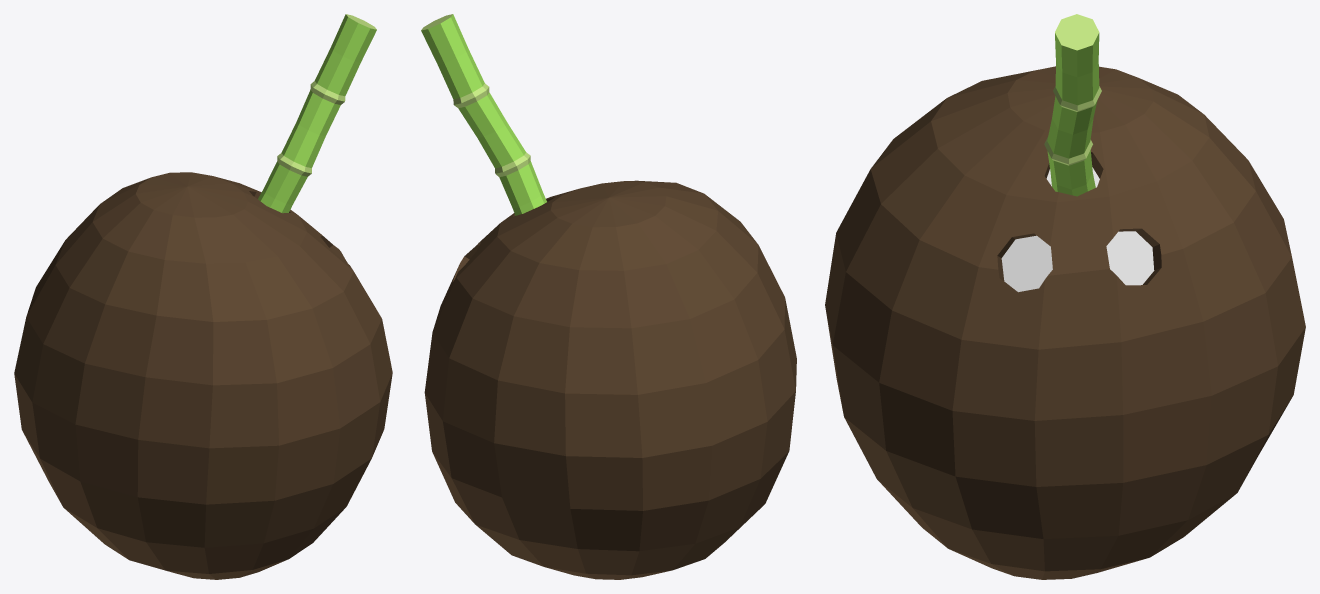
Rendered from Coconut_Full.fbx.
The picture shows the model from 3 angles, left to right: view 1: azimuth 30°, elevation 25°; view 2: azimuth 150°, elevation 25°; view 3: azimuth 270°, elevation 25°; orthographic projection. The views are drawn at different scales.
Parts seen in each view (by area): view 1: Full nut, Cylinder; view 2: Full nut, Cylinder; view 3: Full nut, Cylinder.
Part boxes in pixels (left/top/right/bottom): Full nut: left=14, top=172, right=392, bottom=579; Cylinder: left=258, top=14, right=376, bottom=213; Full nut: left=424, top=180, right=796, bottom=579; Cylinder: left=421, top=14, right=546, bottom=215; Full nut: left=825, top=66, right=1305, bottom=579; Cylinder: left=1044, top=14, right=1101, bottom=196.
Bounding box in the file's own units: 201 × 286 × 197.
